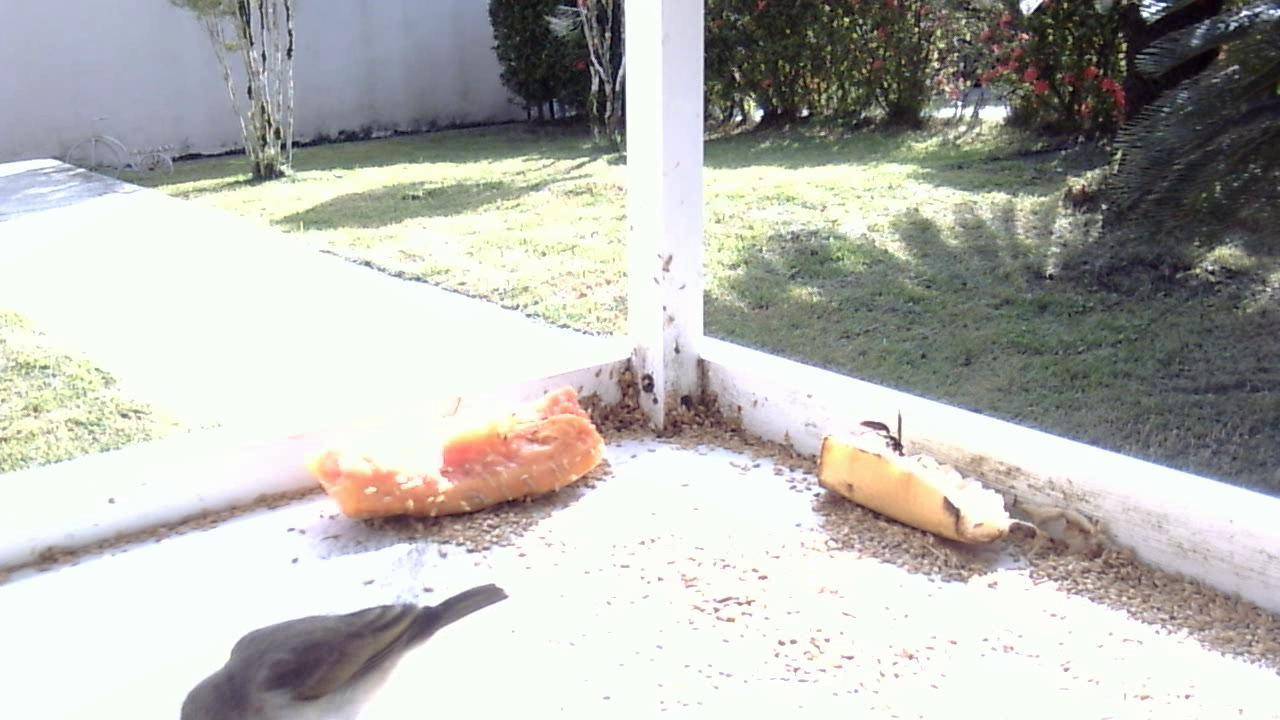canario_do_amazonas: (168, 575, 515, 720)
